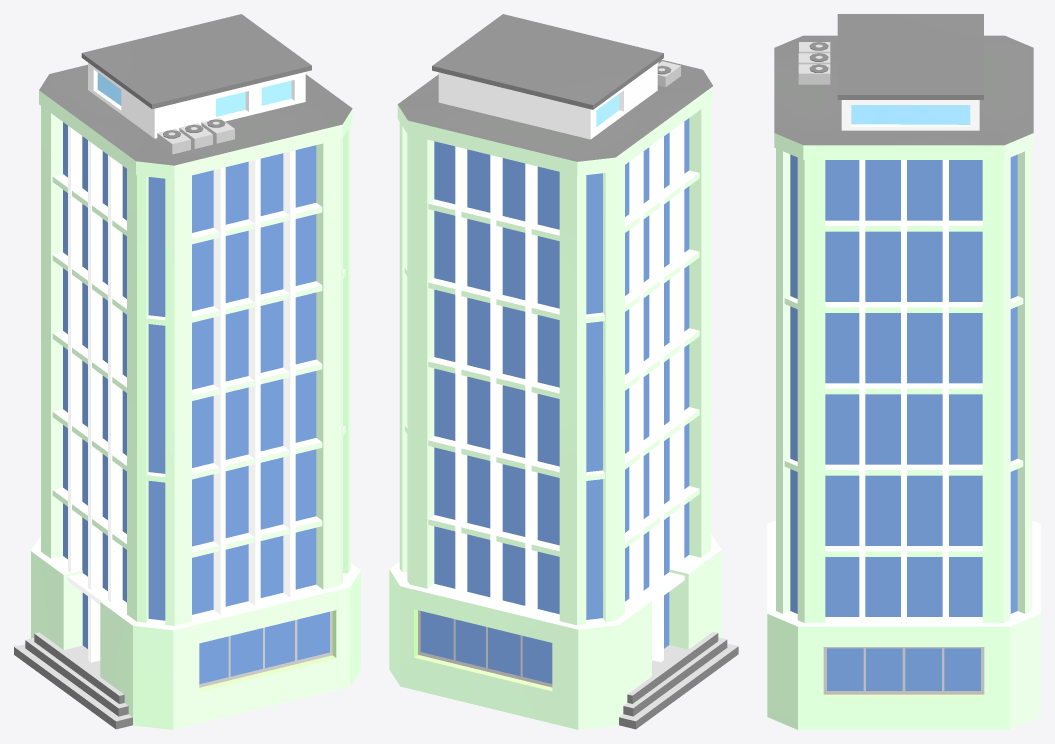
The model's file is tile_for_home_1x1.006 (3).glb.
The picture shows the model from 3 angles, left to right: view 1: azimuth 30°, elevation 25°; view 2: azimuth 150°, elevation 25°; view 3: azimuth 270°, elevation 25°; orthographic projection. The views are drawn at different scales.
Parts seen in each view (by area): view 1: apartment.002; view 2: apartment.002; view 3: apartment.002.
Part boxes in pixels (<box>): apartment.002: <box>14,14,360,729</box>; apartment.002: <box>389,14,738,729</box>; apartment.002: <box>767,14,1040,729</box>.
Size of the model in its own units: 8.13 by 18.98 by 7.58.
Materials: 1 (1 with a texture image).
